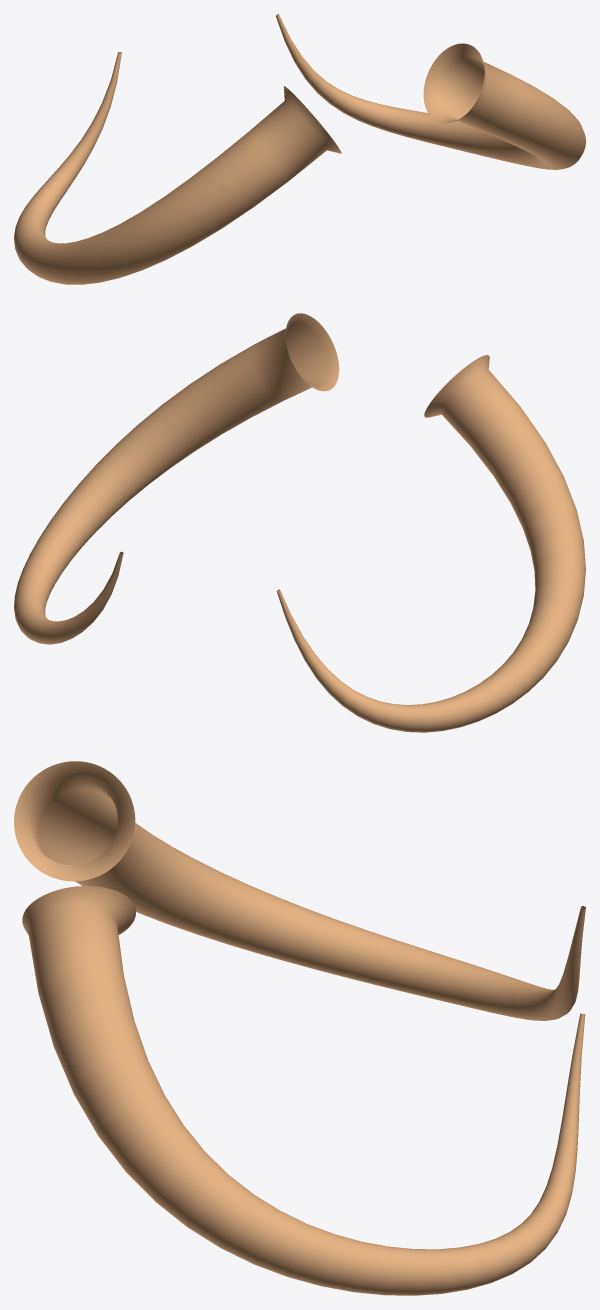
The model's file is bull_horn_color.glb.
The picture shows the model from 3 angles, top to bottom: view 1: azimuth 30°, elevation 25°; view 2: azimuth 150°, elevation 25°; view 3: azimuth 270°, elevation 25°; orthographic projection. The views are drawn at different scales.
Parts seen in each view (by area): view 1: NurbsPath; view 2: NurbsPath; view 3: NurbsPath.
Boxes of the visible parts, x1,y1,x2,y2 form: NurbsPath: [14, 14, 585, 284]; NurbsPath: [14, 313, 585, 732]; NurbsPath: [14, 761, 585, 1295].
Bounding box in the file's own units: 4.28 × 1.89 × 3.04.
